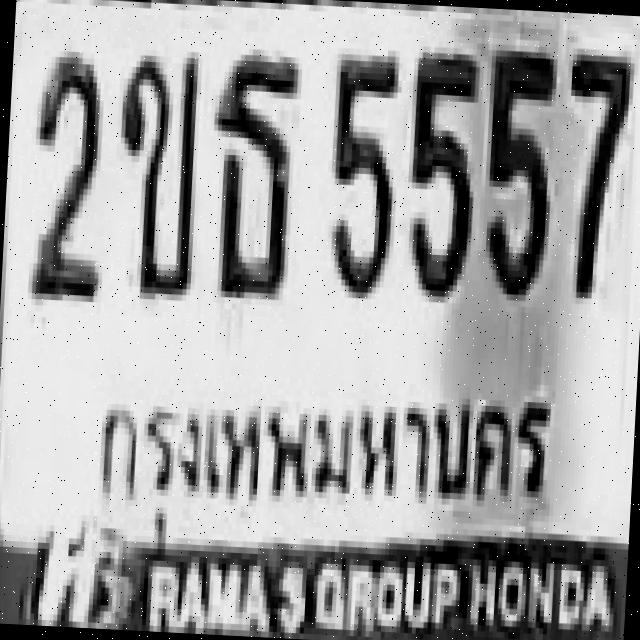11KhorKhai: (109, 48, 199, 295)
2: (24, 47, 106, 299)
33ThorThong: (204, 48, 302, 295)
5: (480, 44, 554, 296), (403, 46, 477, 298), (322, 48, 396, 294)
7: (557, 48, 631, 294)
Bangkok: (80, 365, 567, 548)
